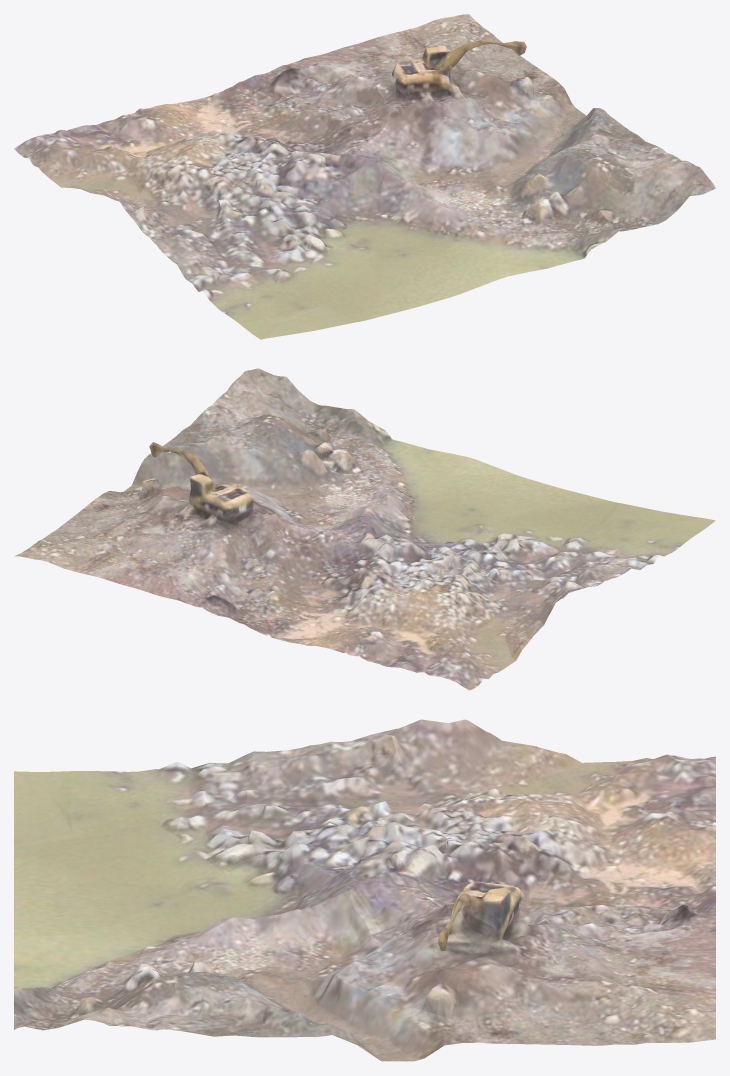
The model's file is Tile_+004_+008_L21_0002200.glb.
The picture shows the model from 3 angles, top to bottom: view 1: azimuth 30°, elevation 25°; view 2: azimuth 150°, elevation 25°; view 3: azimuth 270°, elevation 25°; orthographic projection. The views are drawn at different scales.
Parts seen in each view (by area): view 1: rtc; view 2: rtc; view 3: rtc.
Boxes of the visible parts, x1,y1,x2,y2 form: rtc: (14,14,715,339); rtc: (14,368,715,690); rtc: (14,719,715,1061).
Bounding box in the file's own units: 25.63 × 5.35 × 24.06.
1 material, 1 textured.
